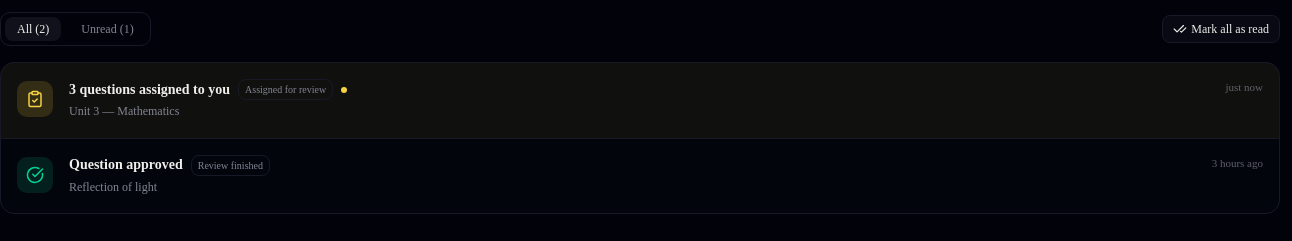
Scenario: NotificationsClient › marks a single notification read when its row is clicked
This screenshot has width=1292, height=241.
Click the link that starts with "3 questions assigned to you": point(35, 99) [1,63,1279,138]
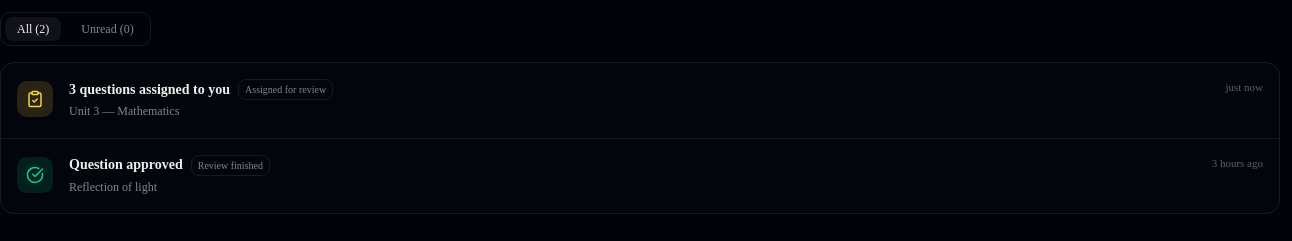
Click the button "Unread (0)": point(107, 29) [69,17,146,41]
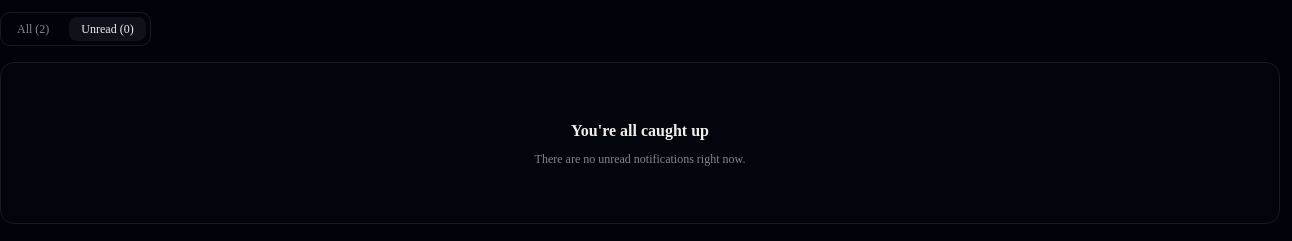
expect the text "You're all caught up" is shown: met, box [571,122,709,139]
expect the text "3 questions assigned to you" is gone: met
